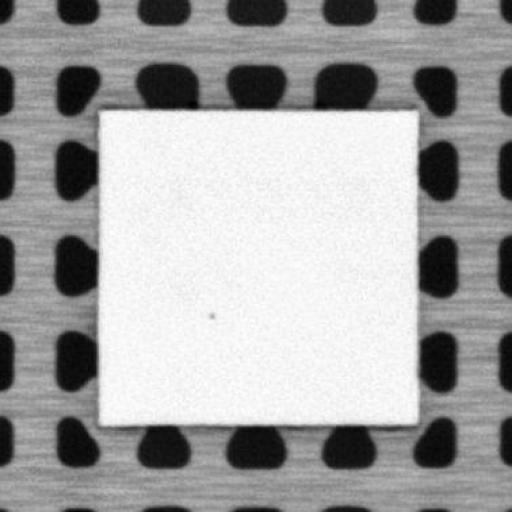DIE_INK: (204, 305, 216, 323)
